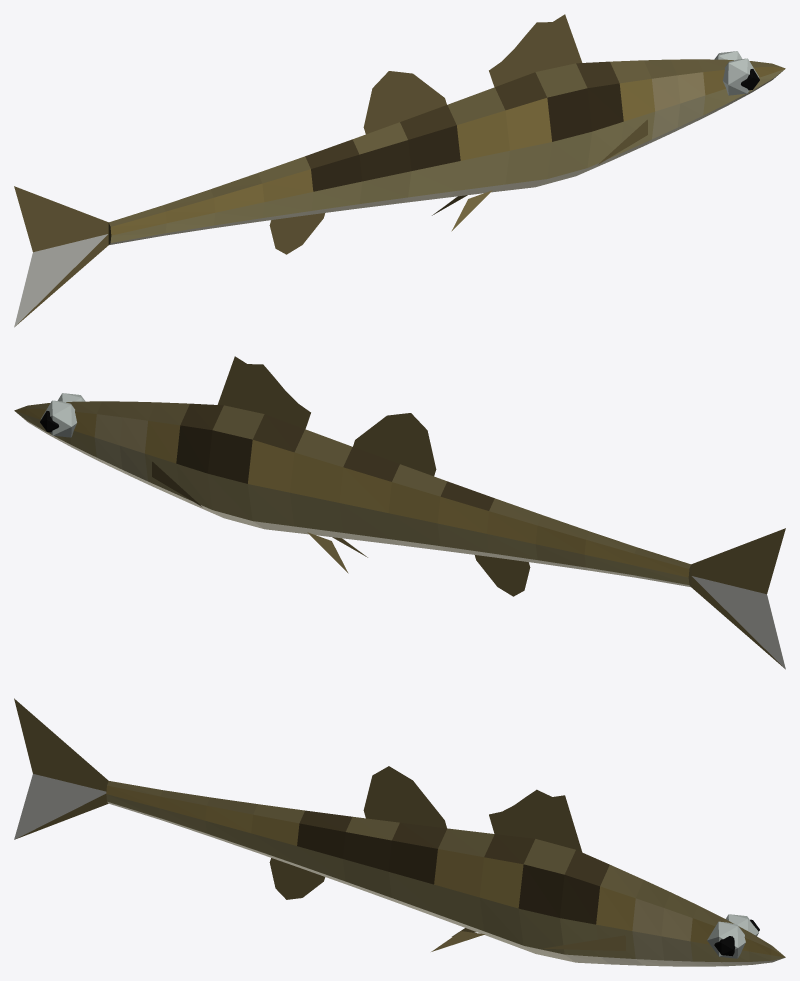
The model's file is sauger.glb.
3 renders of one model, top to bottom at view 1: azimuth 30°, elevation 25°; view 2: azimuth 150°, elevation 25°; view 3: azimuth 330°, elevation 25°, orthographic.
Parts seen in each view (by area): view 1: sauger; view 2: sauger; view 3: sauger.
Boxes of the visible parts, x1=… form: sauger: x1=14, y1=14, x2=785, y2=327; sauger: x1=14, y1=356, x2=785, y2=669; sauger: x1=14, y1=698, x2=785, y2=966.
Size of the model in its own units: 1.14 by 0.2536 by 0.1405.
